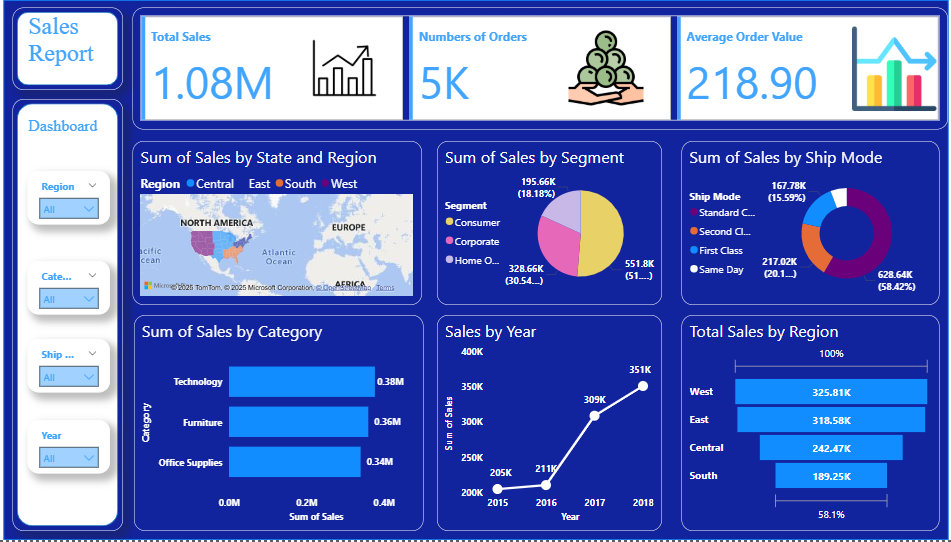

The page's visual inventory and layout, read from the dashboard file:
{"tool":"powerbi","page":{"name":"Page 1","canvas":[1280,720],"ordinal":0},"visuals":[{"type":"shape","box":[10,0,1260,720],"z":0},{"type":"lineChart","title":" Sales by Year","fields":{"Category":["cleaned_train.Order Date.Variation.Date Hierarchy.Year","cleaned_train.Order Date.Variation.Date Hierarchy.Quarter","cleaned_train.Order Date.Variation.Date Hierarchy.Month","cleaned_train.Order Date.Variation.Date Hierarchy.Day"],"Y":["Sum(cleaned_train.Sales)"]},"box":[588,420,300,288],"z":1000},{"type":"filledMap","fields":{"Category":["cleaned_train.State","cleaned_train.Postal Code"],"Series":["cleaned_train.Region"]},"box":[182.9,188.6,385.7,218.6],"z":2000},{"type":"barChart","fields":{"Category":["cleaned_train.Category"],"Y":["Sum(cleaned_train.Sales)"]},"box":[184,420,386,288],"z":2001},{"type":"pieChart","fields":{"Category":["cleaned_train.Segment"],"Y":["Sum(cleaned_train.Sales)"]},"box":[587.1,188.6,300,218.6],"z":2002},{"type":"donutChart","fields":{"Category":["cleaned_train.Ship Mode"],"Y":["Sum(cleaned_train.Sales)"]},"box":[914.3,188.6,344.3,218.6],"z":2003},{"type":"cardVisual","fields":{"Data":["cleaned_train.Total Sales","cleaned_train.Numbers of Orders","cleaned_train.Average Order Value"]},"box":[182.9,10,1087.1,162.9],"z":2004},{"type":"image","box":[388.6,32.9,152.9,117.1],"z":2005},{"type":"image","box":[737.1,32.9,150,117.1],"z":2006},{"type":"image","box":[1135.7,30,122.9,122.9],"z":2007},{"type":"shape","box":[21.4,10,147.1,110],"z":2008},{"type":"textbox","box":[37.1,10,118.6,91.4],"z":2009},{"type":"shape","box":[21.4,131.4,147.1,575.7],"z":2010},{"type":"textbox","box":[38.6,150,112.9,52.9],"z":2011},{"type":"slicer","fields":{"Values":["cleaned_train.Region"]},"box":[41.4,227.1,110,71.4],"z":2012},{"type":"slicer","fields":{"Values":["cleaned_train.Category"]},"box":[41.4,348.6,110,71.4],"z":2013},{"type":"slicer","fields":{"Values":["cleaned_train.Ship Mode"]},"box":[41.4,452.9,110,71.4],"z":2014},{"type":"slicer","fields":{"Values":["cleaned_train.Ship Date.Variation.Date Hierarchy.Year"]},"box":[41.4,560,110,71.4],"z":2015},{"type":"funnel","fields":{"Y":["cleaned_train.Total Sales"],"Category":["cleaned_train.Region"]},"box":[914,420,344,288],"z":2016}]}

Visuals, with their boxes in screenshot pixels (x1, y1, x2, y2), scaled from the page's 1280x720 canvas onto the 951x542 screenshot:
shape: region(7, 0, 944, 541)
" Sales by Year" lineChart: region(437, 316, 660, 533)
filledMap - cleaned_train.State x cleaned_train.Postal Code: region(136, 142, 422, 307)
barChart - cleaned_train.Category x Sum(cleaned_train.Sales): region(137, 316, 423, 533)
pieChart - cleaned_train.Segment x Sum(cleaned_train.Sales): region(436, 142, 659, 307)
donutChart - cleaned_train.Ship Mode x Sum(cleaned_train.Sales): region(679, 142, 935, 307)
cardVisual - cleaned_train.Total Sales x cleaned_train.Numbers of Orders: region(136, 8, 944, 130)
image: region(289, 25, 402, 113)
image: region(548, 25, 659, 113)
image: region(844, 23, 935, 115)
shape: region(16, 8, 125, 90)
textbox: region(28, 8, 116, 76)
shape: region(16, 99, 125, 532)
textbox: region(29, 113, 113, 153)
slicer - cleaned_train.Region: region(31, 171, 112, 225)
slicer - cleaned_train.Category: region(31, 262, 112, 316)
slicer - cleaned_train.Ship Mode: region(31, 341, 112, 395)
slicer - cleaned_train.Ship Date.Variation.Date Hierarchy.Year: region(31, 422, 112, 475)
funnel - cleaned_train.Total Sales x cleaned_train.Region: region(679, 316, 935, 533)
